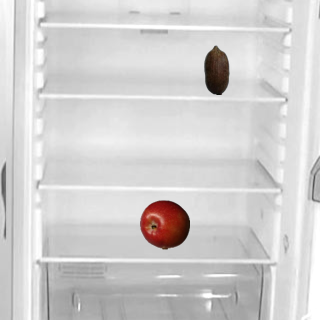Apple Braeburn: (139, 199, 189, 249)
Nut Pecan: (191, 44, 241, 94)
